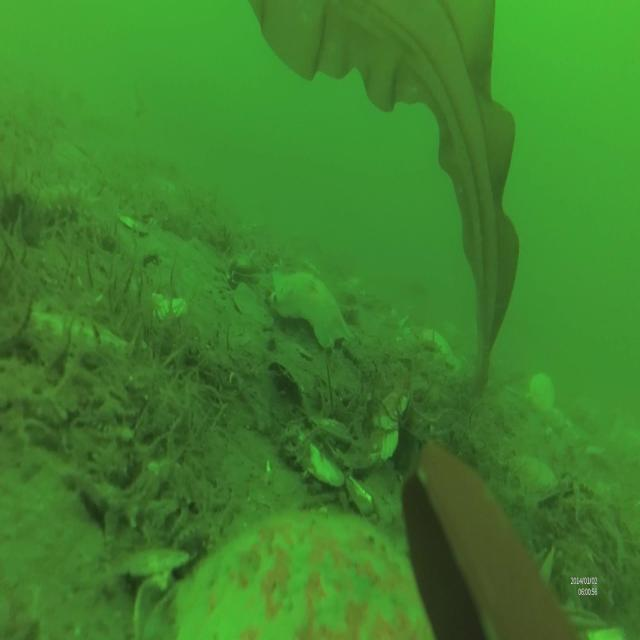starfish: (271, 261, 354, 352)
